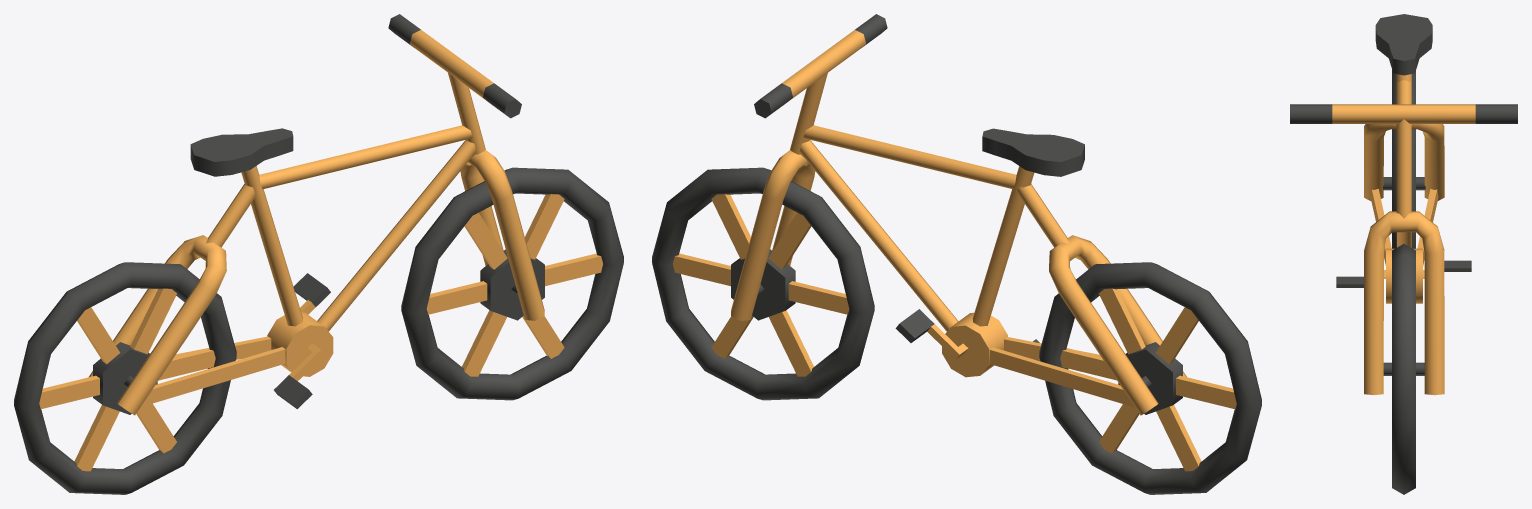
File: bike_yellow.fbx
The picture shows the model from 3 angles, left to right: view 1: azimuth 30°, elevation 25°; view 2: azimuth 150°, elevation 25°; view 3: azimuth 270°, elevation 25°; orthographic projection.
Parts seen in each view (by area): view 1: bike_yellow; view 2: bike_yellow; view 3: bike_yellow.
Part boxes in pixels (x1,y1,x2,y2): bike_yellow: (14,14,623,494); bike_yellow: (652,14,1261,494); bike_yellow: (1290,14,1517,494).
Size of the model in its own units: 131 by 73.55 by 43.26.
1 material, 1 textured.
